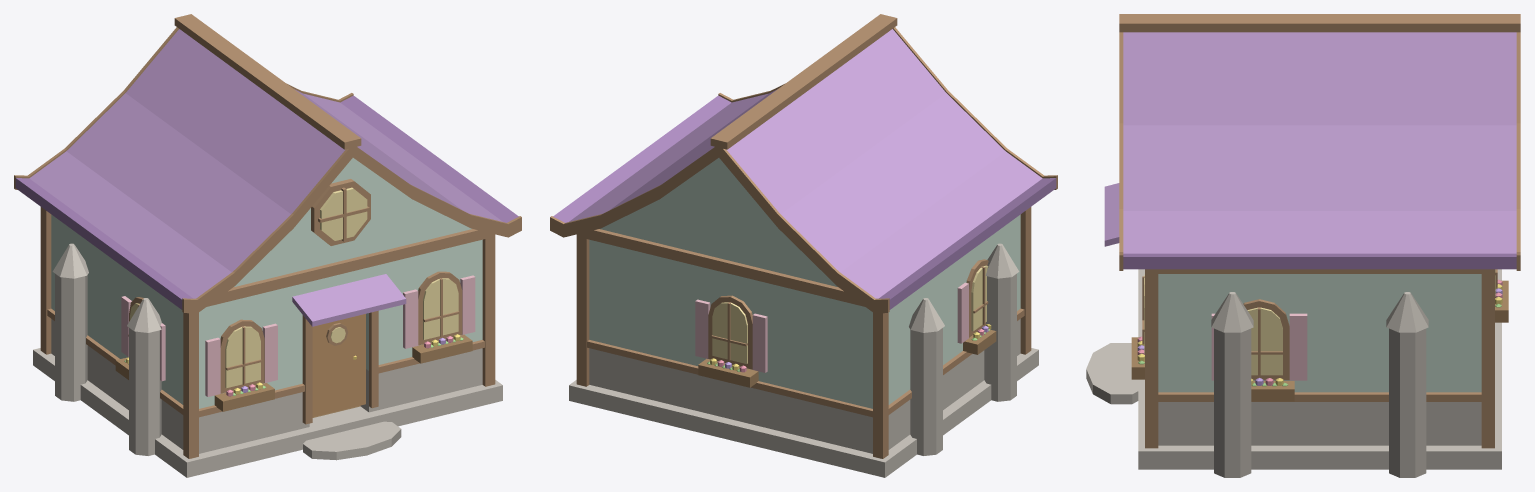
File: chapel_mint.glb
3 renders of one model, left to right at view 1: azimuth 30°, elevation 25°; view 2: azimuth 150°, elevation 25°; view 3: azimuth 270°, elevation 25°, orthographic. The views are drawn at different scales.
Visible parts, largest first — view 1: Player; view 2: Player; view 3: Player.
Boxes of the visible parts, x1,y1,x2,y2 form: Player: [14, 14, 521, 477]; Player: [550, 14, 1057, 477]; Player: [1086, 14, 1520, 477].
Size of the model in its own units: 7.07 by 5.89 by 6.45.
